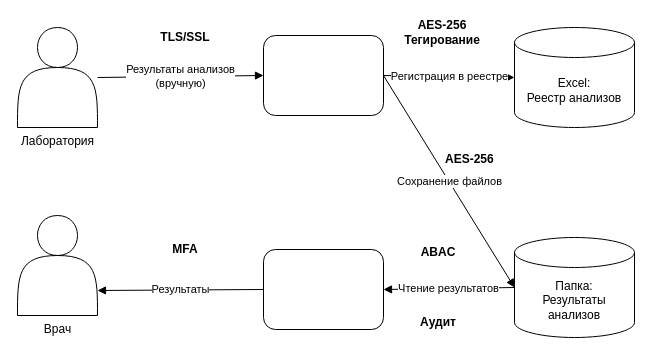
The diagram is 652 pixels wide and 355 high, and some of its shapes have lost their labels. The shapes that lost their labels are listed below. From the top down, each one's centre as x and y in pixels, then its label:
At (x=323, y=75): "Получение результатов".
At (x=323, y=289): "Хранение результатов".
